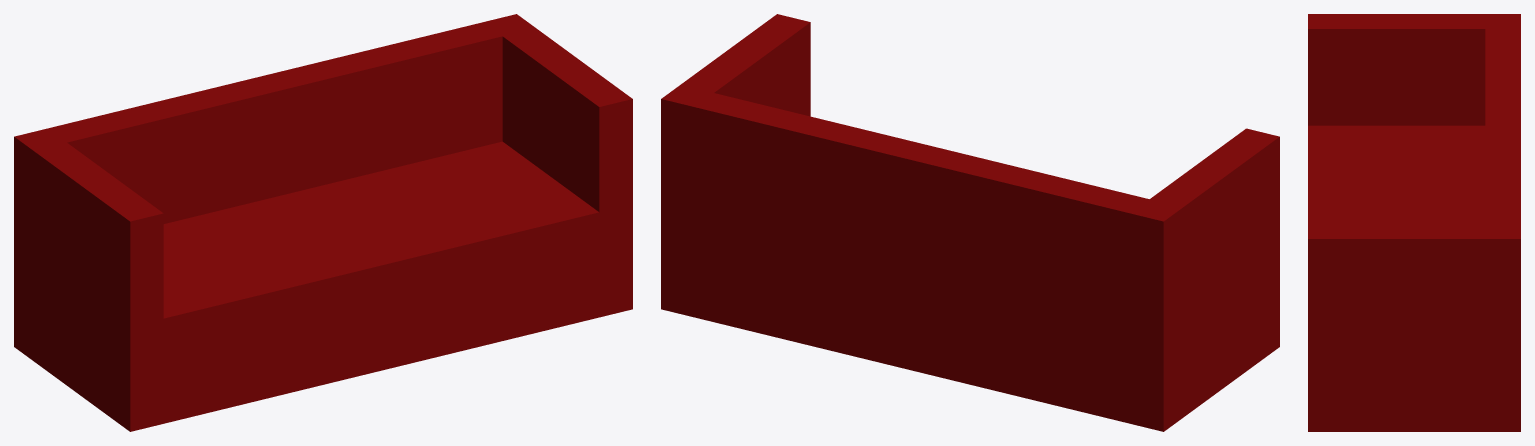
Rendered from Red Sofa.dae.
The picture shows the model from 3 angles, left to right: view 1: azimuth 30°, elevation 25°; view 2: azimuth 150°, elevation 25°; view 3: azimuth 270°, elevation 25°; orthographic projection. The views are drawn at different scales.
Parts seen in each view (by area): view 1: Base, Back, Left_Handle, Right_Handle; view 2: Base, Back, Left_Handle, Right_Handle; view 3: Base, Right_Handle, Left_Handle, Back.
Boxes of the visible parts, x1,y1,x2,y2 form: Base: (14,141,632,431); Back: (29,14,534,223); Left_Handle: (14,128,163,326); Right_Handle: (484,14,632,212); Base: (661,204,1279,431); Back: (662,85,1180,318); Left_Handle: (1130,128,1279,326); Right_Handle: (661,14,810,204); Base: (1308,125,1520,431); Right_Handle: (1308,224,1520,335); Left_Handle: (1308,14,1520,125); Back: (1485,14,1520,238).
Size of the model in its own units: 1.5 by 0.6 by 0.6.
